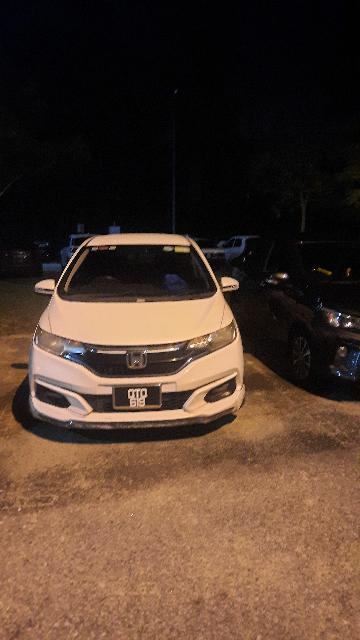License_Plate: (110, 380, 164, 413)
car: (23, 230, 247, 432)
